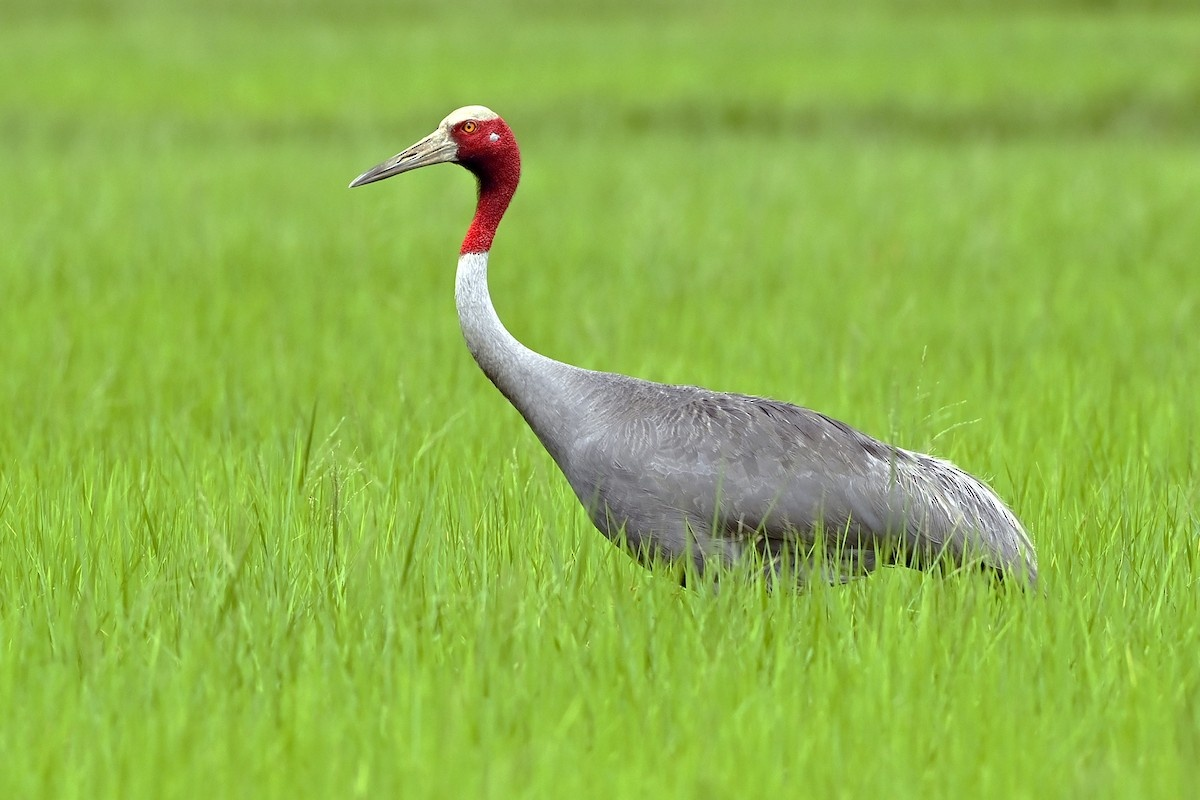crane: (352, 120, 1058, 601)
